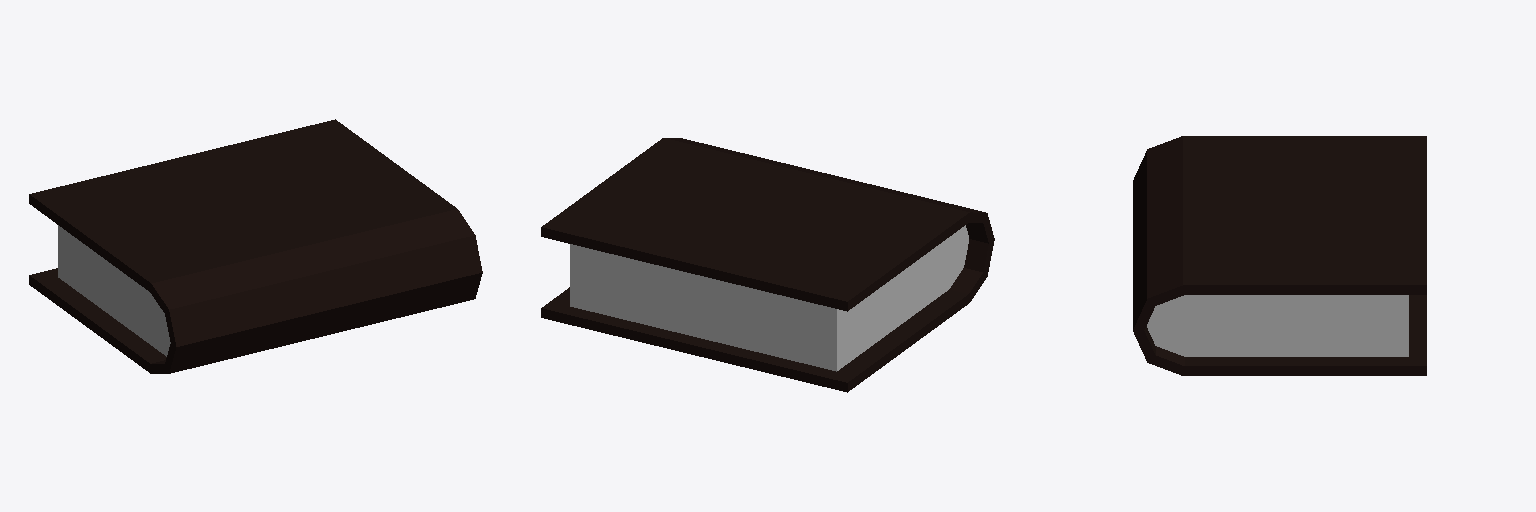
Rendered from book.obj.
The picture shows the model from 3 angles: view 1: azimuth 30°, elevation 25°; view 2: azimuth 150°, elevation 25°; view 3: azimuth 270°, elevation 25°; orthographic projection.
Parts seen in each view (by area): view 1: Cylinder.001; view 2: Cylinder.001; view 3: Cylinder.001.
Part boxes in pixels (x1,y1,x2,y2): Cylinder.001: (29, 119, 482, 373); Cylinder.001: (541, 138, 994, 392); Cylinder.001: (1133, 136, 1426, 375).
Bounding box in the file's own units: 0.9034 × 0.2556 × 0.7522.